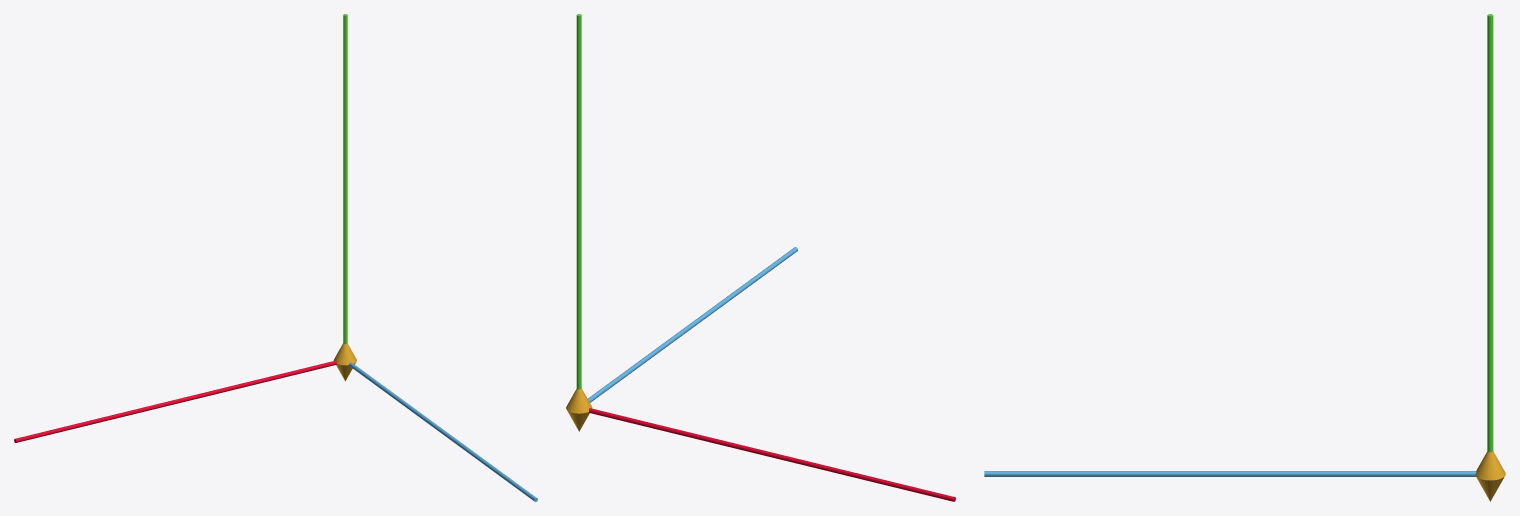
The model's file is marker.fbx.
3 renders of one model, left to right at view 1: azimuth 30°, elevation 25°; view 2: azimuth 150°, elevation 25°; view 3: azimuth 270°, elevation 25°, orthographic. The views are drawn at different scales.
Visible parts, largest first — view 1: xaxis, yaxis, zaxis; view 2: yaxis, xaxis, zaxis, marker; view 3: yaxis, zaxis, marker.
Boxes of the visible parts, box(x1,y1,x2,y2) form: xaxis: box(14, 360, 336, 442); yaxis: box(343, 14, 347, 344); zaxis: box(349, 362, 537, 501); yaxis: box(576, 14, 581, 389); xaxis: box(589, 408, 955, 501); zaxis: box(588, 247, 797, 402); marker: box(566, 389, 592, 431); yaxis: box(1487, 14, 1493, 452); zaxis: box(984, 471, 1476, 476); marker: box(1475, 451, 1505, 501).
Bounding box in the file's own units: 103 × 106 × 103.
